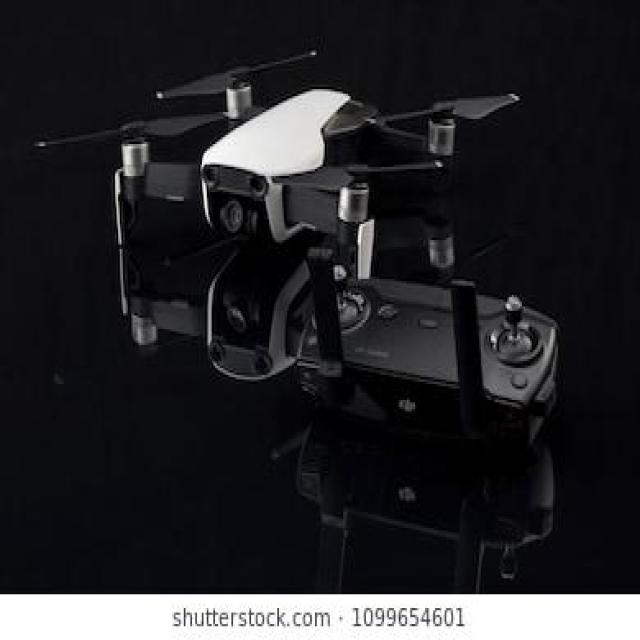drone: (0, 43, 620, 525)
